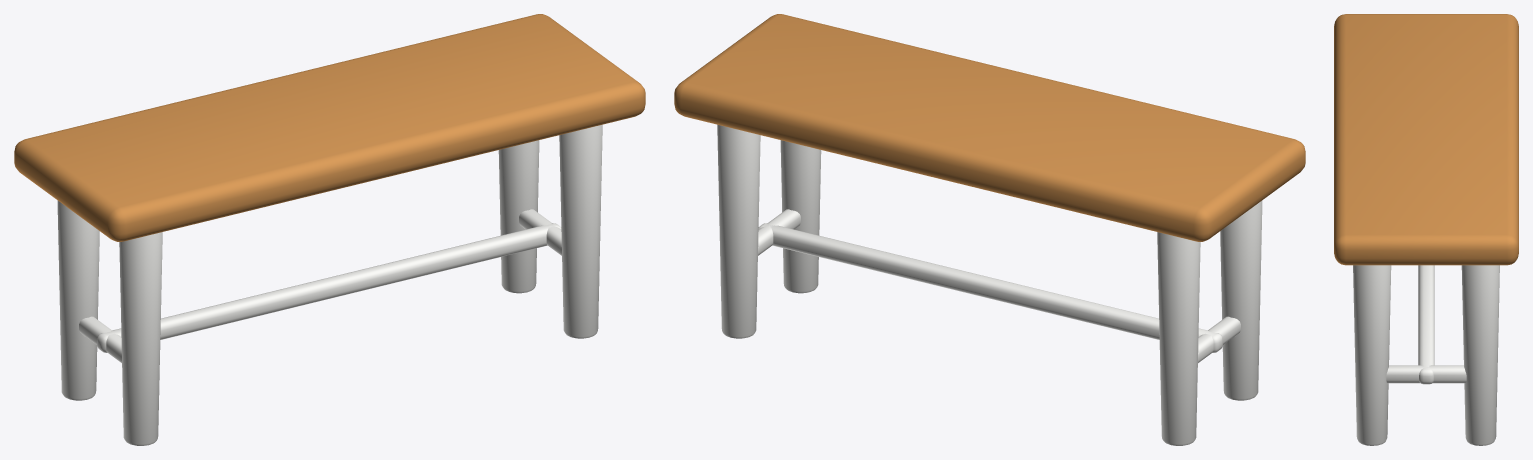
Rendered from banco_entrada_mel.glb.
The picture shows the model from 3 angles, left to right: view 1: azimuth 30°, elevation 25°; view 2: azimuth 150°, elevation 25°; view 3: azimuth 270°, elevation 25°; orthographic projection. The views are drawn at different scales.
Parts seen in each view (by area): view 1: banco_entrada_mel; view 2: banco_entrada_mel; view 3: banco_entrada_mel.
Part boxes in pixels (left/top/right/bottom): banco_entrada_mel: left=14, top=14, right=645, bottom=445; banco_entrada_mel: left=674, top=14, right=1305, bottom=445; banco_entrada_mel: left=1334, top=14, right=1518, bottom=445.
Bounding box in the file's own units: 1 × 0.45 × 0.34.
Materials: 1 (1 with a texture image).
